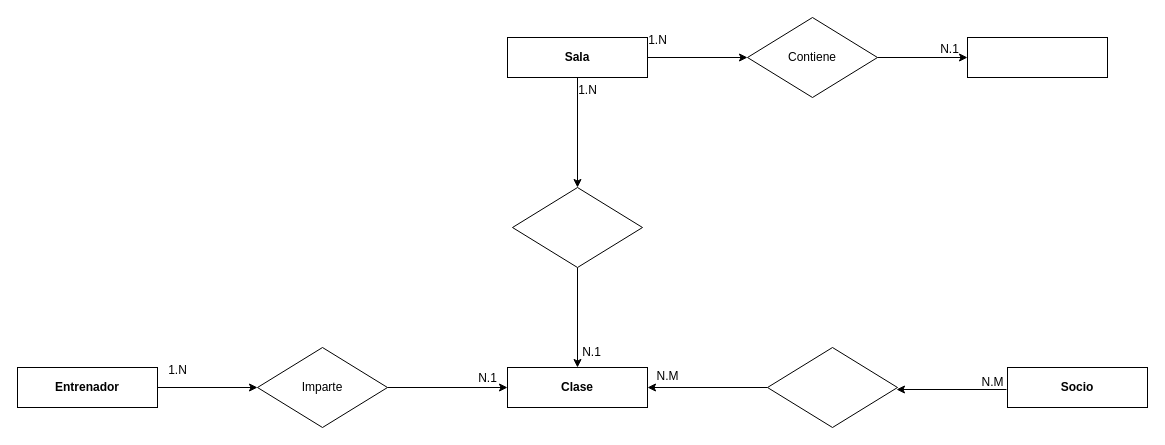
Image size: 1165x445. Some labels were removed from this diagram. The centre of each missing label's shape, as x and y in pixels:
"Alberga" belongs at (x=577, y=227).
"Aparato" belongs at (x=1037, y=57).
"Asiste" belongs at (x=832, y=387).
